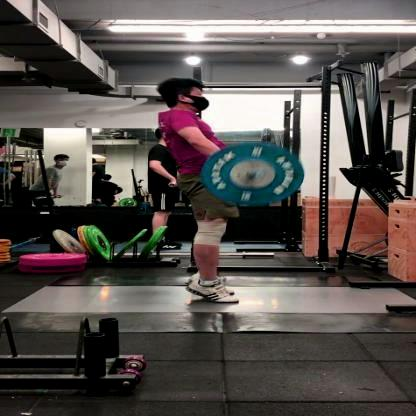Barbell: (242, 167, 261, 182)
